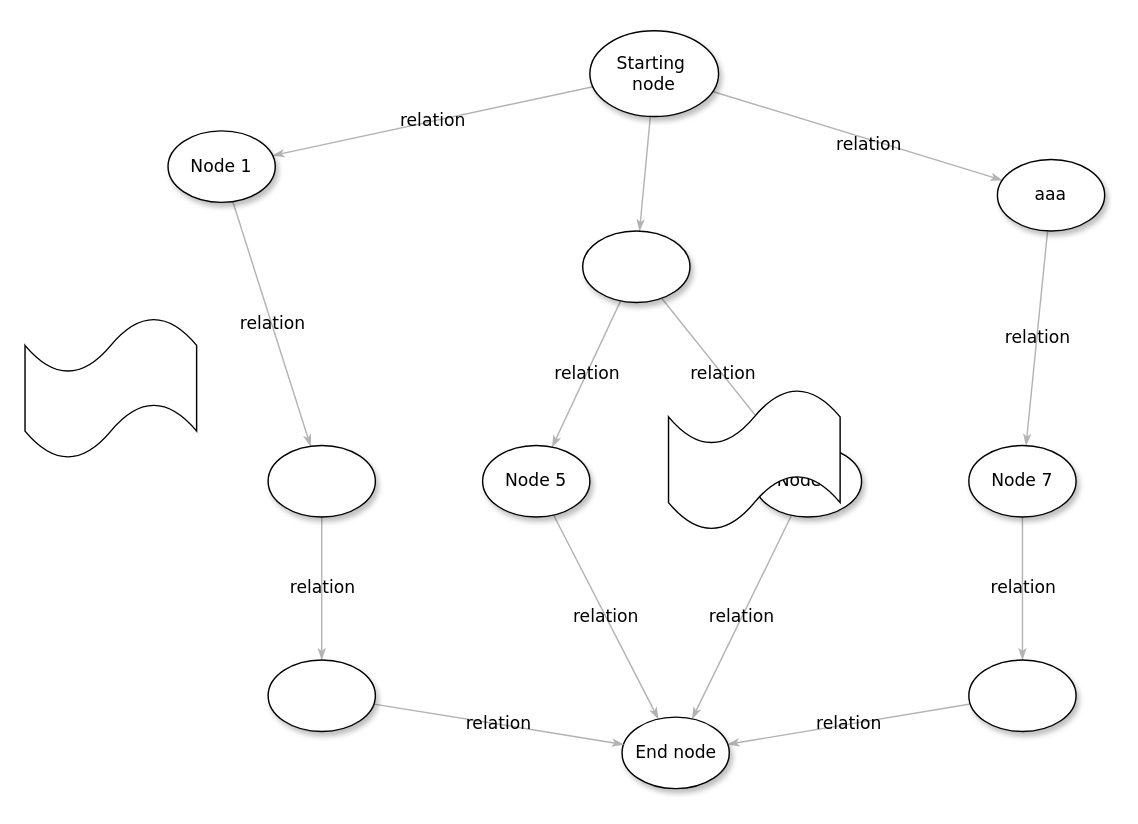
Some shapes in this 1138 by 824 pixel diagram are drawn without their labels. Here are the shapes that lost their labels. From the top down, the centre of each, then its label:
At point 637,268: "Node 2".
At point 322,482: "Node 4".
At point 322,697: "Node 8".
At point 1023,697: "Node 9".
